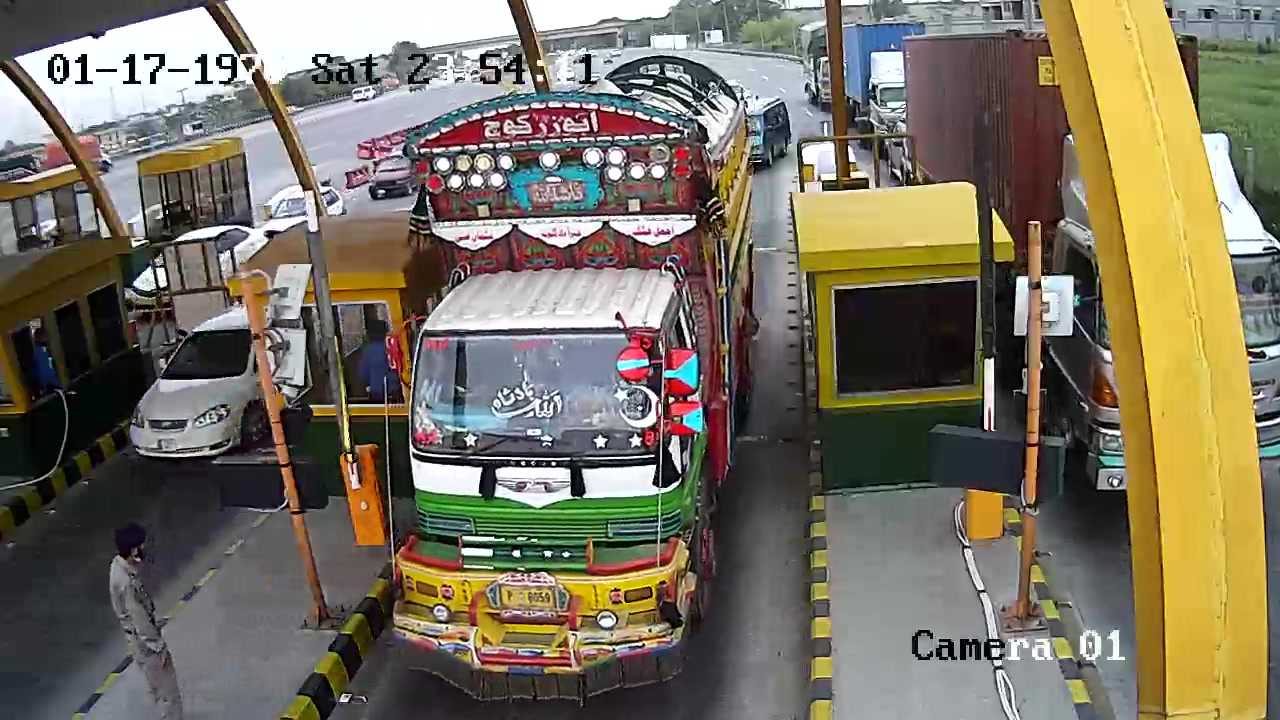F5: (375, 54, 760, 700)
